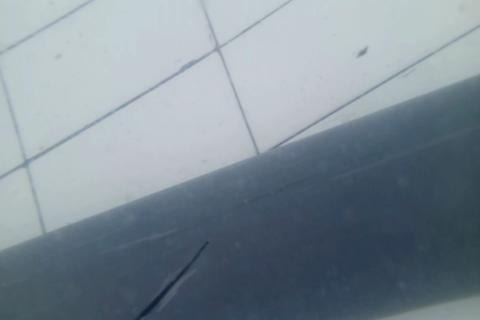keretakan: (131, 237, 211, 320)
